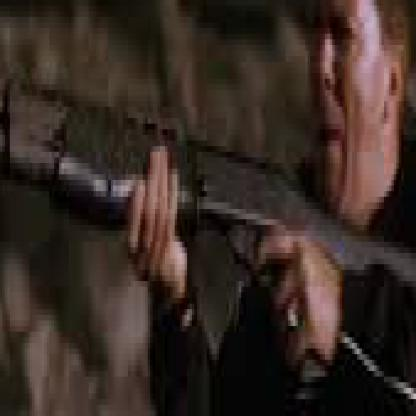gun: (42, 0, 380, 411)
